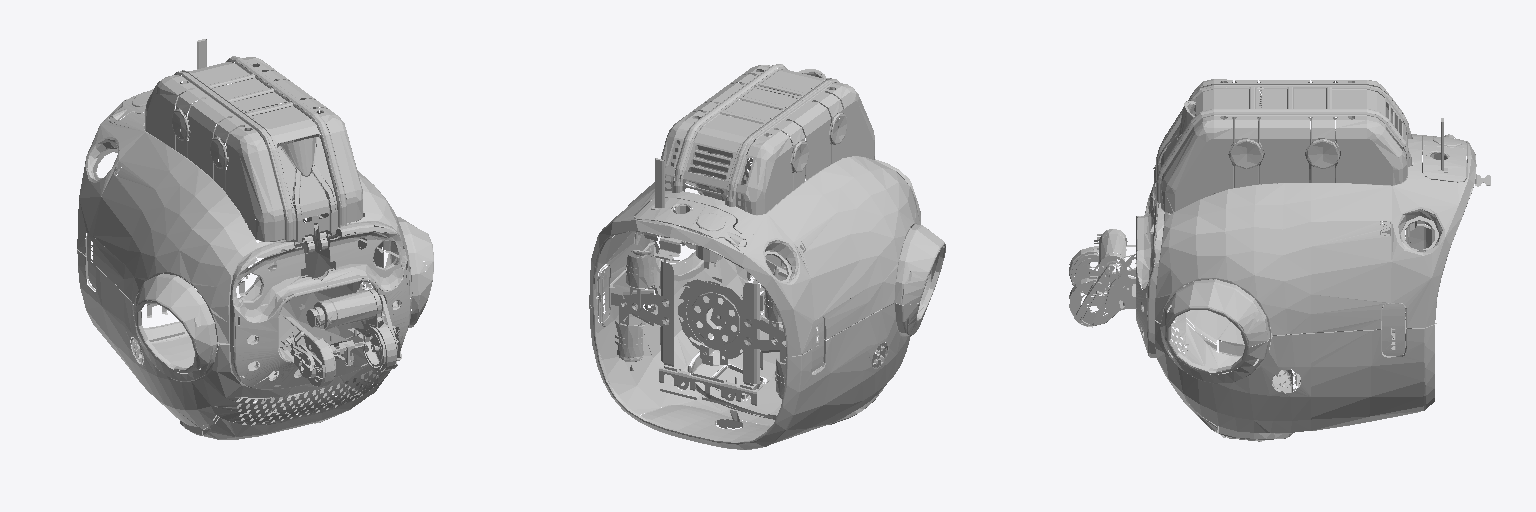
File: sim_ecub_1-3_chest.obj
3 renders of one model, left to right at view 1: azimuth 30°, elevation 25°; view 2: azimuth 150°, elevation 25°; view 3: azimuth 270°, elevation 25°, orthographic.
Parts seen in each view (by area): view 1: sim_ecub_1-1_chest; view 2: sim_ecub_1-1_chest; view 3: sim_ecub_1-1_chest.
Boxes of the visible parts, box(x1,y1,x2,y2) form: sim_ecub_1-1_chest: box(77, 39, 433, 439); sim_ecub_1-1_chest: box(589, 64, 945, 449); sim_ecub_1-1_chest: box(1069, 79, 1490, 441).
Size of the model in its own units: 253 by 276 by 331.